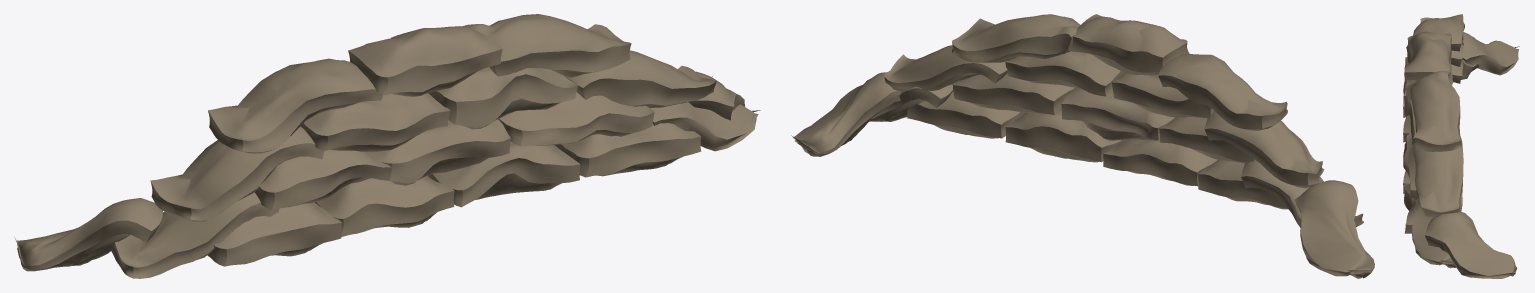
The model's file is sandbag wall 4.fbx.
3 renders of one model, left to right at view 1: azimuth 30°, elevation 25°; view 2: azimuth 150°, elevation 25°; view 3: azimuth 270°, elevation 25°, orthographic. The views are drawn at different scales.
Parts seen in each view (by area): view 1: polySurface12; view 2: polySurface12; view 3: polySurface12.
Part boxes in pixels (x1,y1,x2,y2): polySurface12: (14, 14, 760, 278); polySurface12: (791, 14, 1374, 278); polySurface12: (1403, 14, 1519, 278).
Size of the model in its own units: 577 by 155 by 128.
